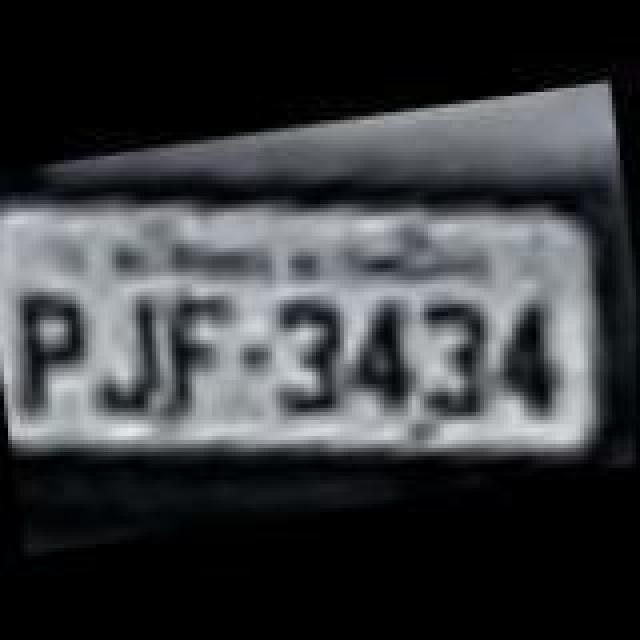3: (262, 290, 358, 426), (408, 292, 500, 424)
4: (482, 294, 570, 434), (340, 290, 424, 426)
F: (152, 284, 244, 416)
J: (82, 290, 178, 422)
P: (6, 284, 102, 420)
